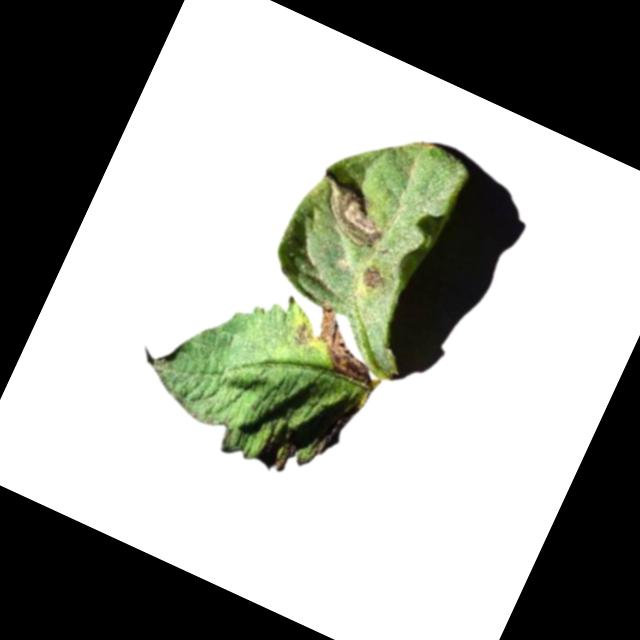Early_blight: (297, 296, 393, 389), (313, 177, 398, 253), (358, 261, 392, 295), (270, 438, 297, 475)
